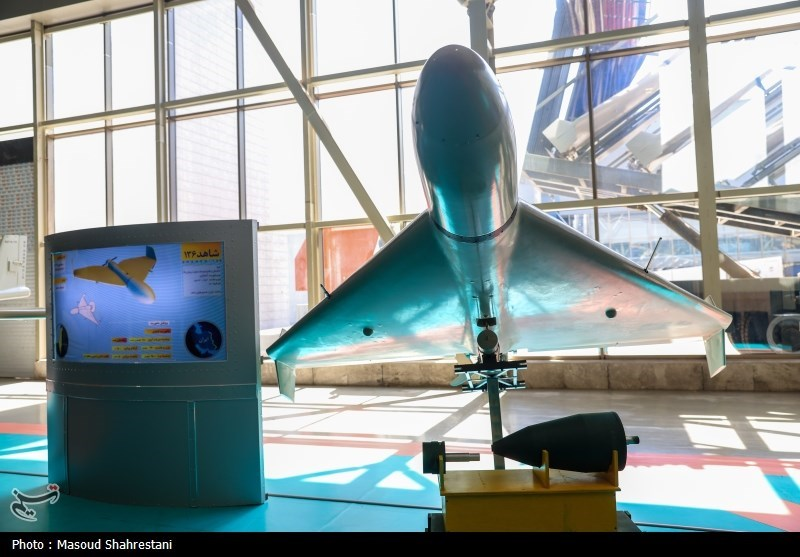shahed: (265, 41, 747, 406)
